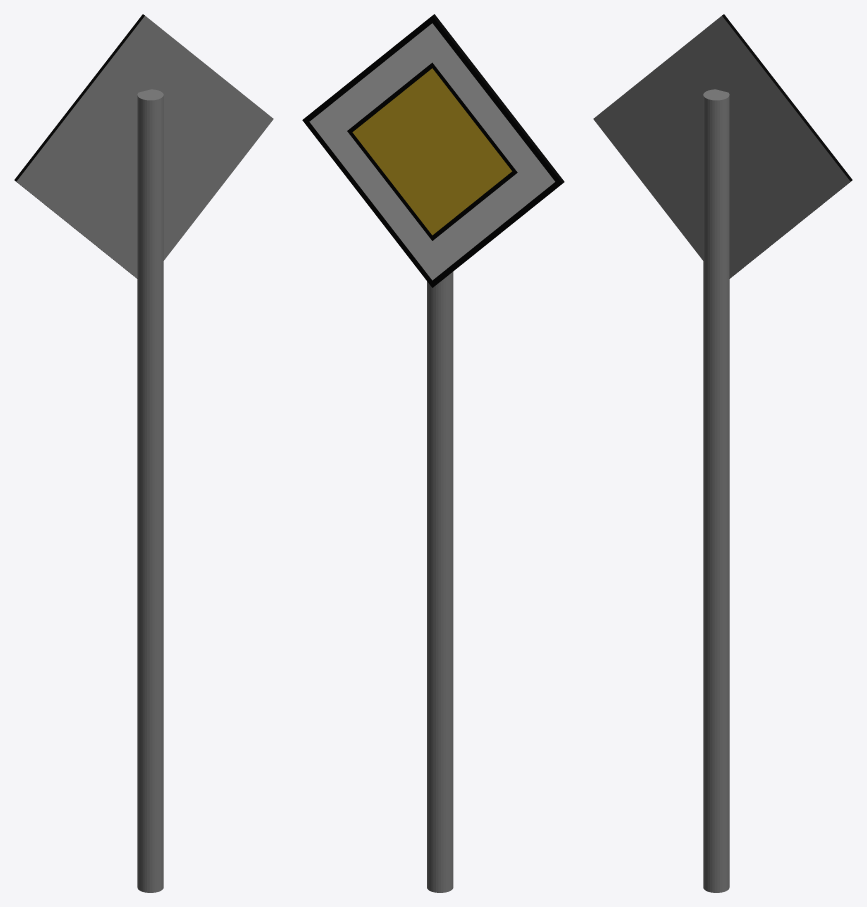
The model's file is PriorityRoad.fbx.
3 renders of one model, left to right at view 1: azimuth 30°, elevation 25°; view 2: azimuth 150°, elevation 25°; view 3: azimuth 330°, elevation 25°, orthographic.
Parts seen in each view (by area): view 1: PriorityRoad; view 2: PriorityRoad; view 3: PriorityRoad.
Part boxes in pixels (x1,y1,x2,y2): PriorityRoad: (14,14,273,892); PriorityRoad: (302,14,564,892); PriorityRoad: (593,14,852,892).
Size of the model in its own units: 68 by 6.5 by 219.
